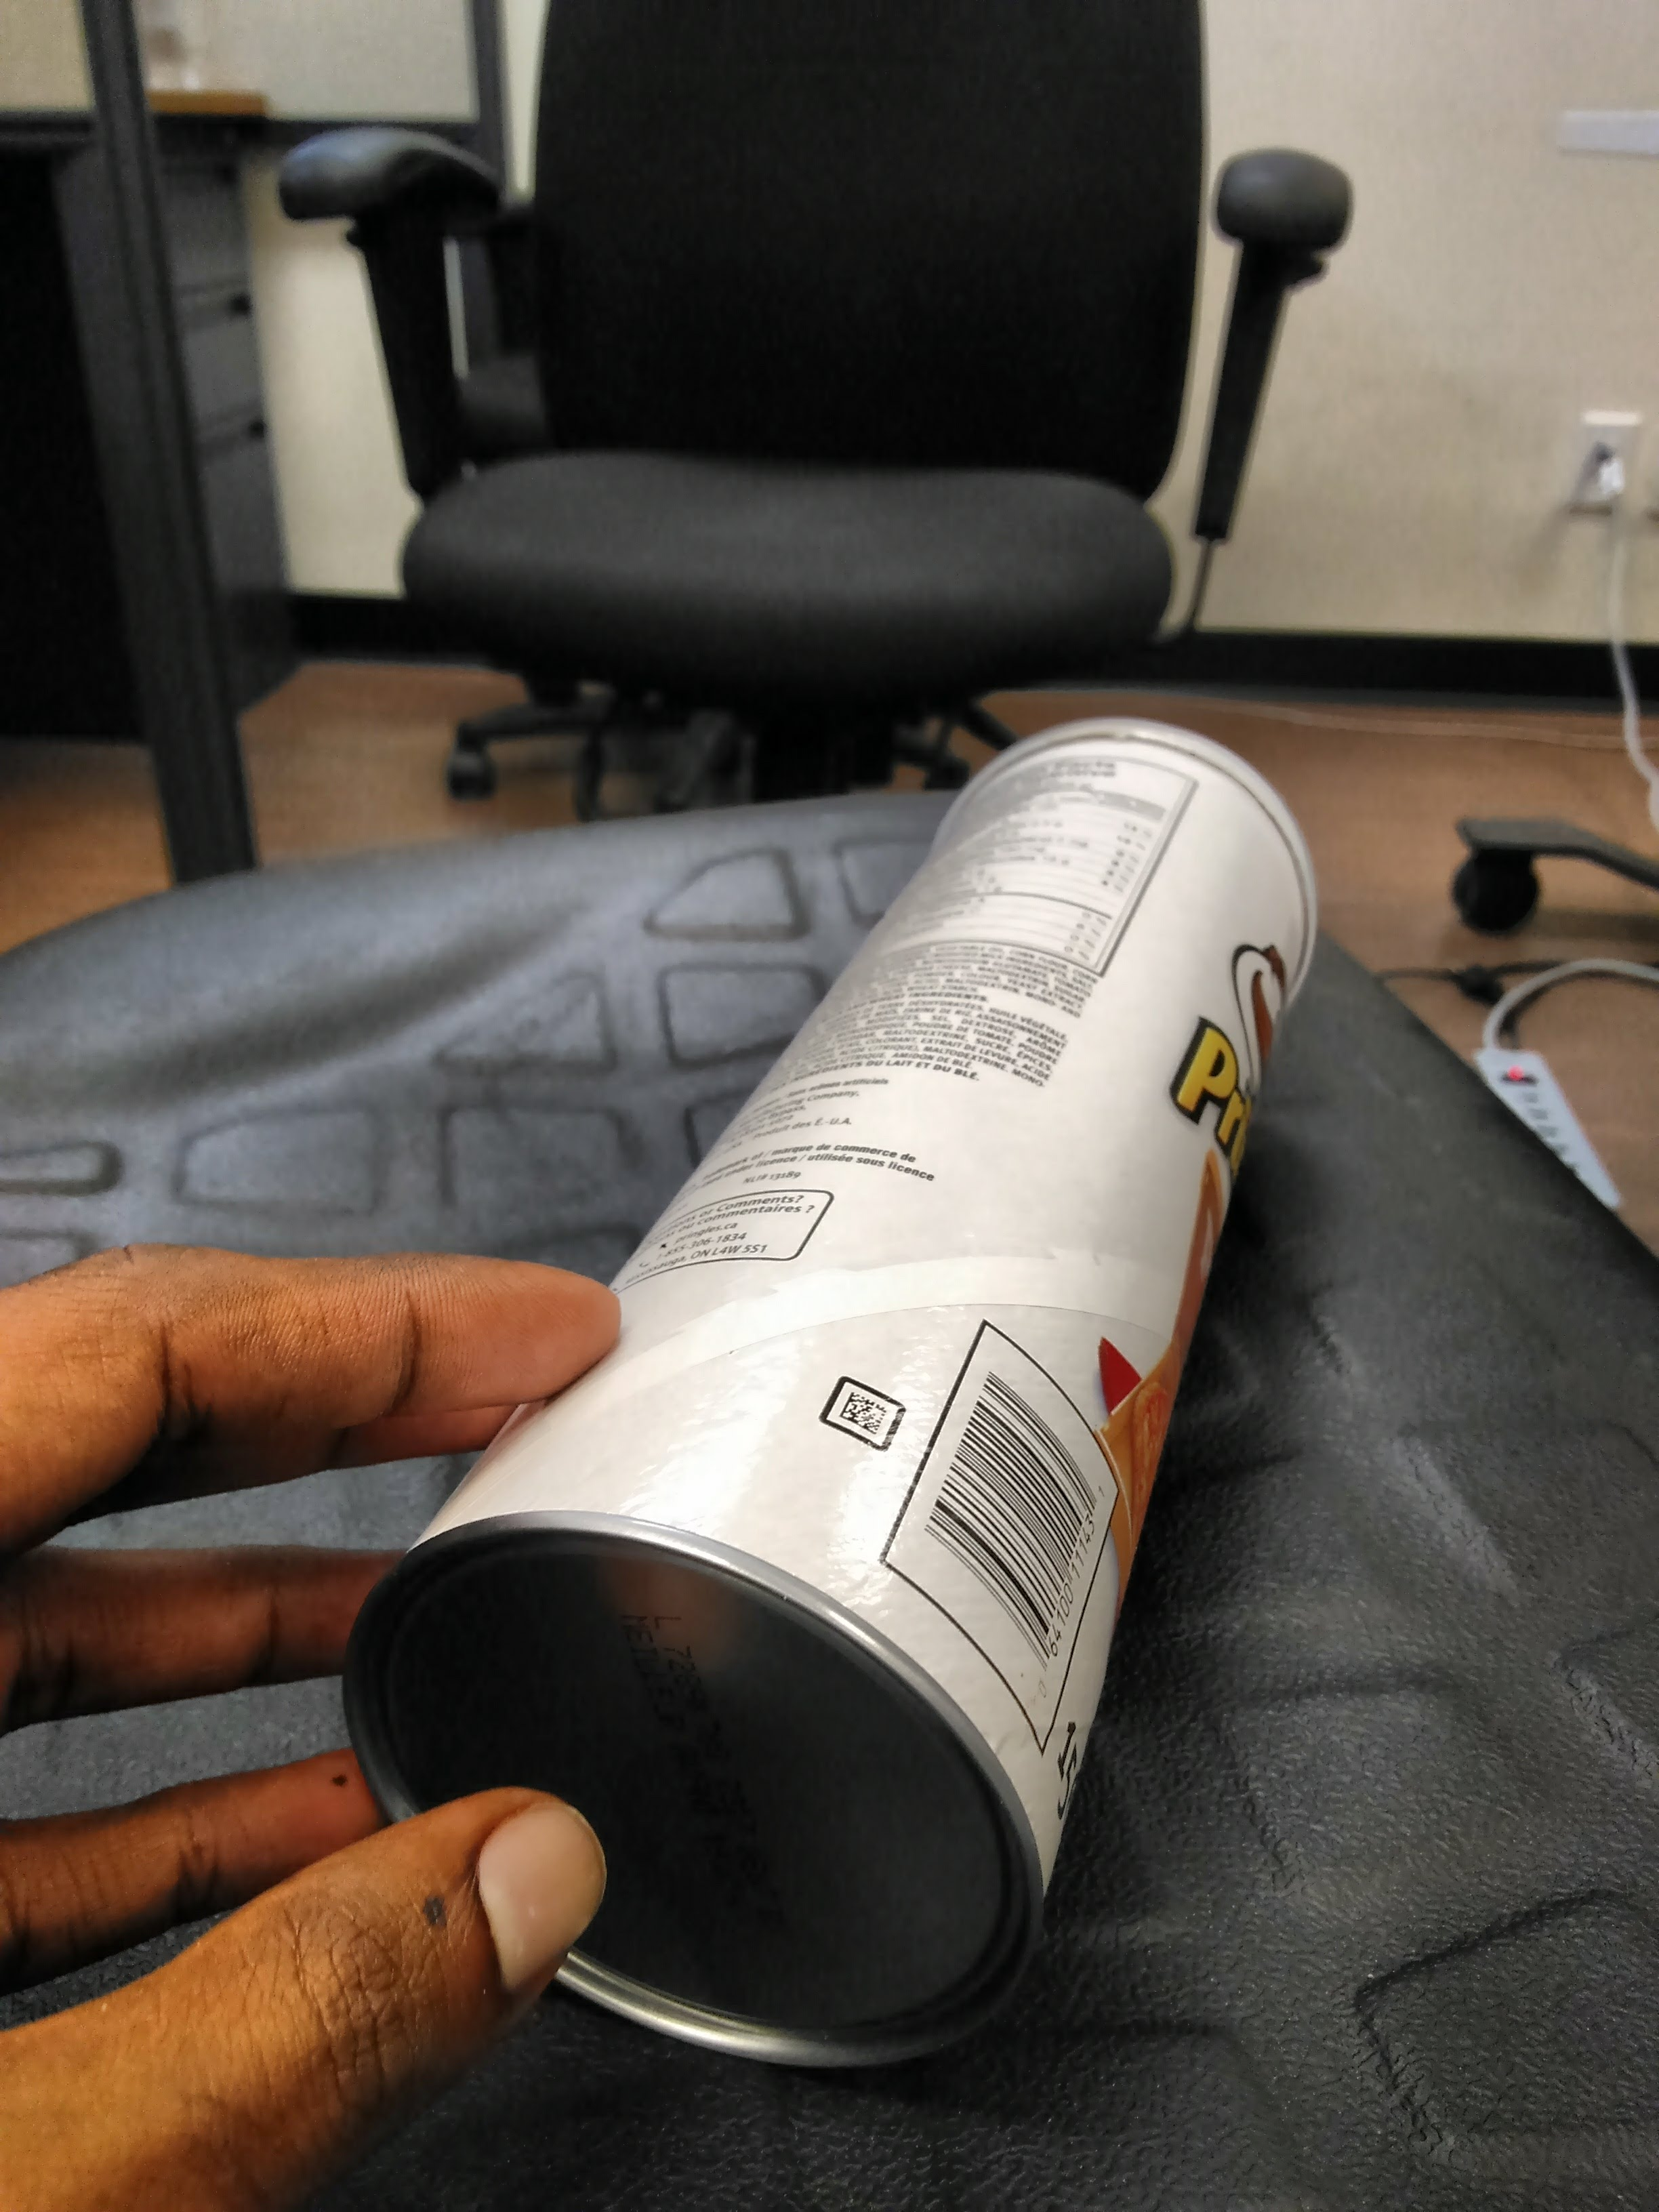pringles: (394, 679, 1403, 2085)
